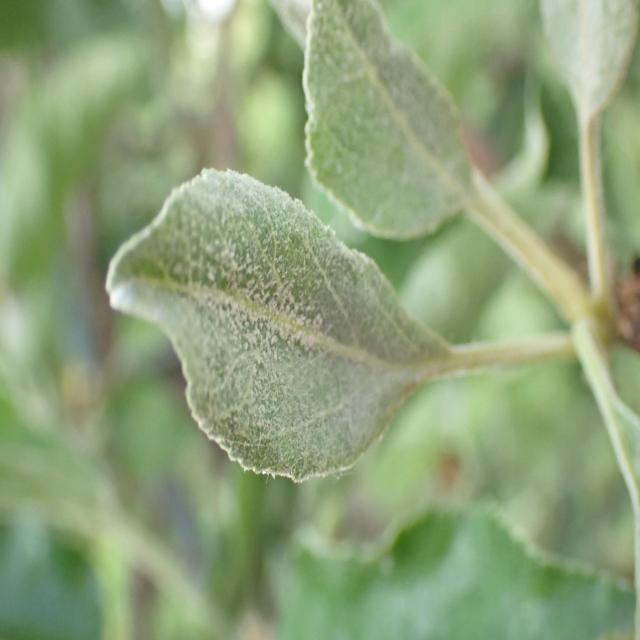Powdery_mildew: (111, 161, 491, 568), (293, 0, 555, 314), (528, 0, 640, 280)
